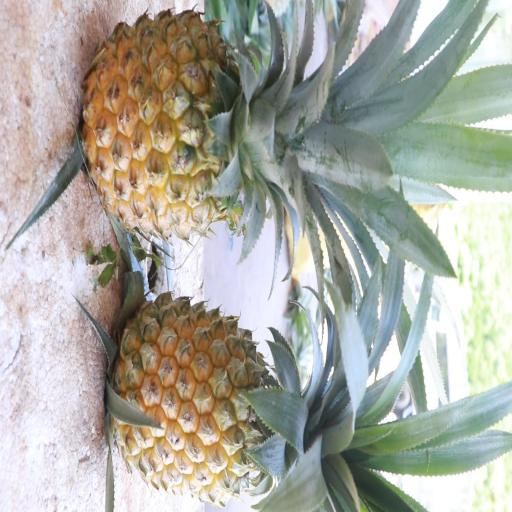Pineapple - v8 v1: (79, 3, 320, 250), (106, 289, 356, 508)
